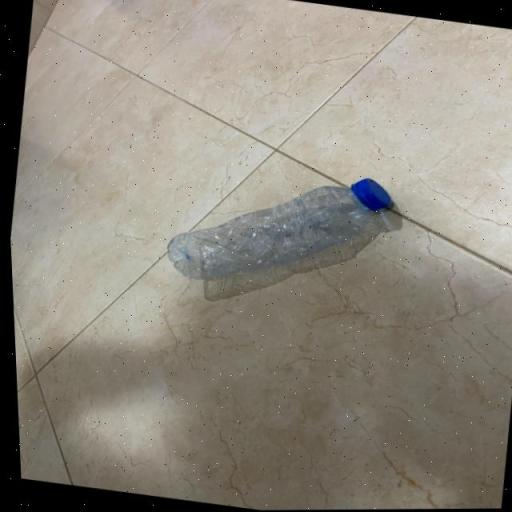plastic: (154, 152, 396, 314)
